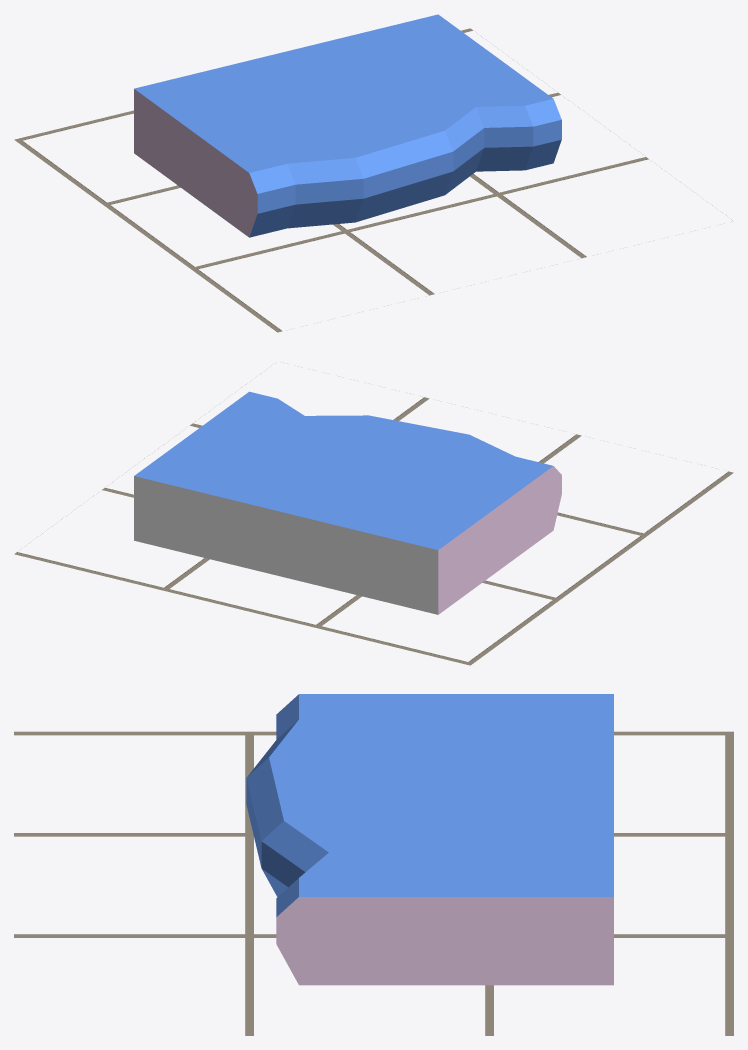
The model's file is Iceberg_Straight_2x2_1.glb.
The picture shows the model from 3 angles, top to bottom: view 1: azimuth 30°, elevation 25°; view 2: azimuth 150°, elevation 25°; view 3: azimuth 270°, elevation 25°; orthographic projection. The views are drawn at different scales.
Parts seen in each view (by area): view 1: Iceberg_Straight_2x2_1, Floor; view 2: Iceberg_Straight_2x2_1, Floor; view 3: Iceberg_Straight_2x2_1, Floor.
Boxes of the visible parts, x1,y1,x2,y2 form: Iceberg_Straight_2x2_1: [134, 14, 561, 237]; Floor: [14, 28, 731, 332]; Iceberg_Straight_2x2_1: [134, 391, 561, 614]; Floor: [14, 387, 733, 665]; Iceberg_Straight_2x2_1: [246, 694, 613, 985]; Floor: [14, 731, 733, 1035].
Size of the model in its own units: 300 by 40.63 by 300.
Materials: 4 (1 with a texture image).
